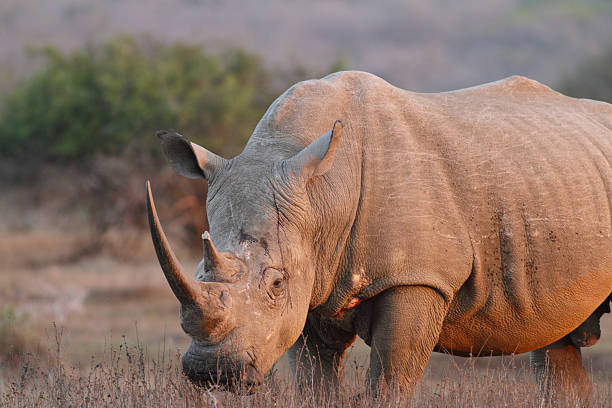rhino: (110, 107, 379, 406)
